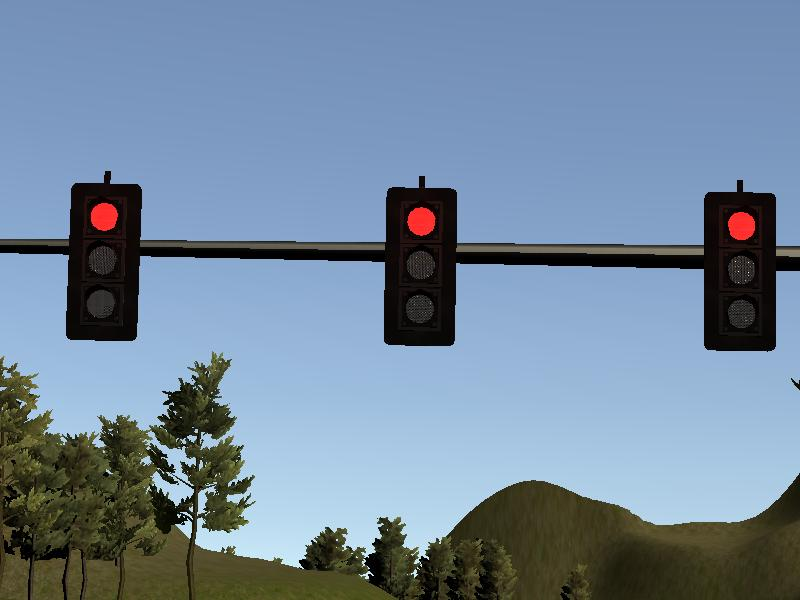red: (66, 184, 141, 342), (382, 189, 457, 347), (701, 193, 776, 351)
